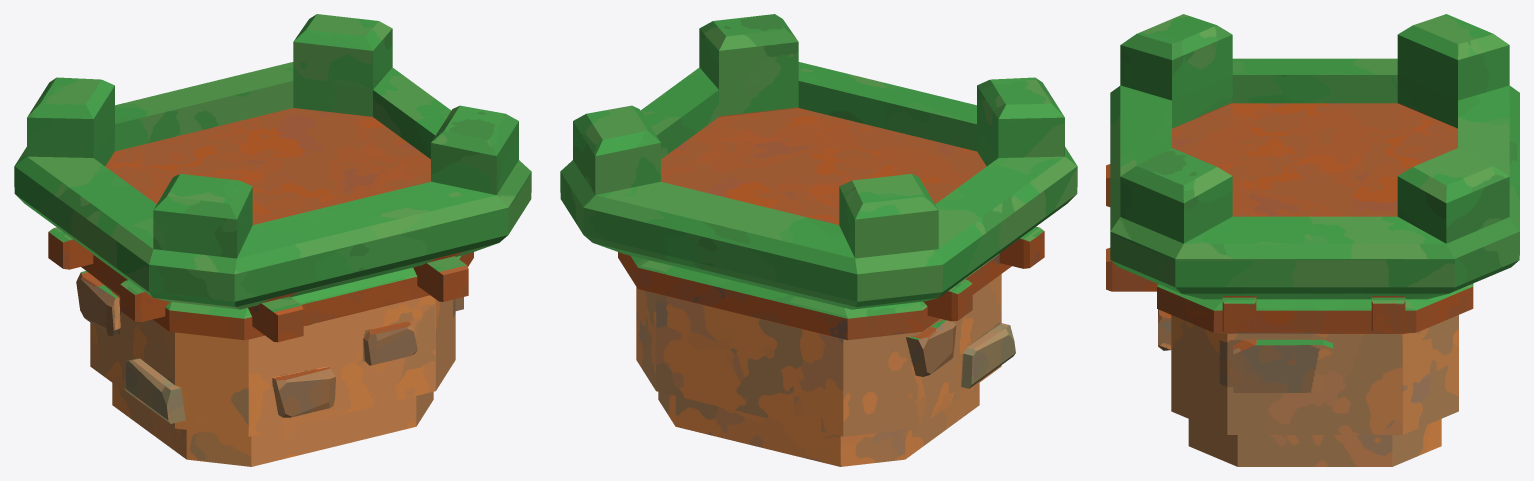
File: FORTRESS PILLAR 1.fbx
The picture shows the model from 3 angles, left to right: view 1: azimuth 30°, elevation 25°; view 2: azimuth 150°, elevation 25°; view 3: azimuth 270°, elevation 25°; orthographic projection. The views are drawn at different scales.
Parts seen in each view (by area): view 1: fortress pillar_UV; view 2: fortress pillar_UV; view 3: fortress pillar_UV.
Part boxes in pixels (x1=…): fortress pillar_UV: x1=14, y1=14, x2=531, y2=466; fortress pillar_UV: x1=560, y1=14, x2=1077, y2=466; fortress pillar_UV: x1=1106, y1=14, x2=1519, y2=466.
Size of the model in its own units: 981 by 728 by 885.
Materials: 1 (1 with a texture image).
